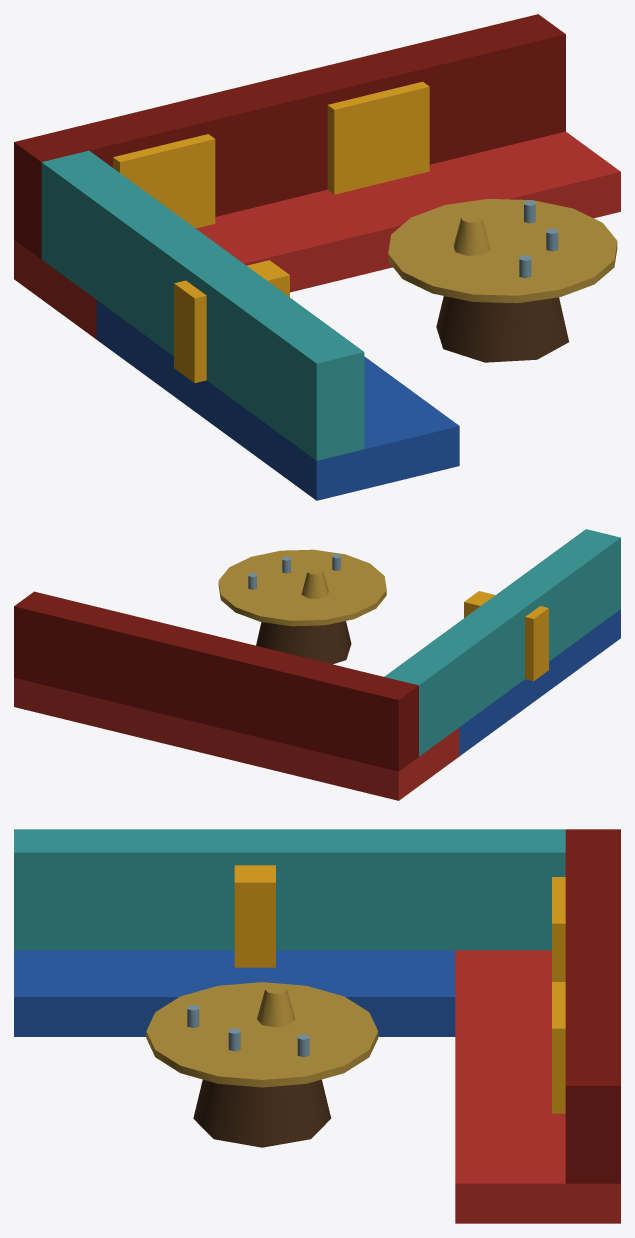
The model's file is dc_cushions.glb.
3 renders of one model, top to bottom at view 1: azimuth 30°, elevation 25°; view 2: azimuth 150°, elevation 25°; view 3: azimuth 270°, elevation 25°, orthographic. The views are drawn at different scales.
Visible parts, largest first — view 1: dc_cushions; view 2: dc_cushions; view 3: dc_cushions.
Boxes of the visible parts, x1,y1,x2,y2 form: dc_cushions: [14, 14, 620, 500]; dc_cushions: [14, 529, 620, 800]; dc_cushions: [14, 829, 620, 1223].
Bounding box in the file's own units: 2.25 × 0.55 × 2.2.
